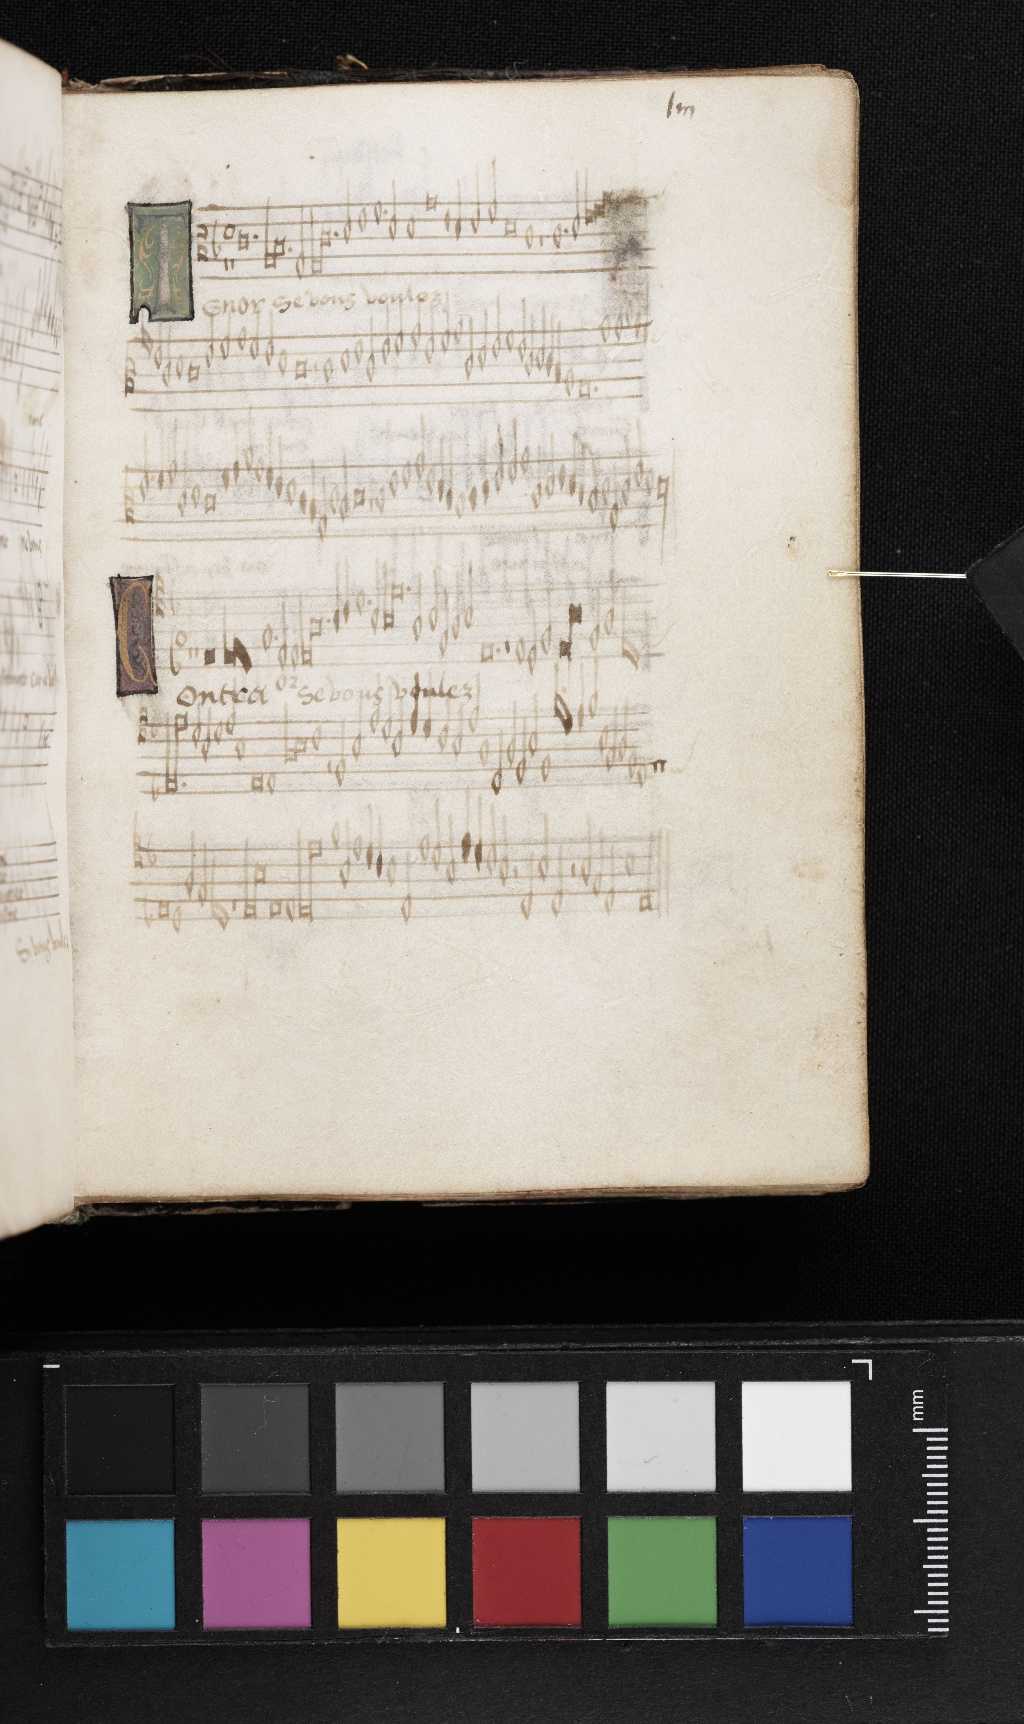barline: (658, 832, 669, 917)
breve_10: (263, 896, 286, 922), (155, 894, 173, 921)
c clef_3: (129, 814, 145, 876)
flat_11: (135, 885, 157, 934)
flat_4: (143, 814, 160, 870)
l1semibreve_10: (293, 832, 313, 924), (238, 838, 255, 919)
l2semibreve_3: (306, 835, 325, 917)
l2semibreve_6: (254, 860, 269, 922)
longa_10: (639, 839, 657, 917)
minim rest: (569, 804, 580, 915), (508, 831, 521, 914)
minim_10: (603, 833, 620, 922), (397, 847, 412, 924), (522, 857, 538, 916), (550, 857, 564, 916)
minim_4: (432, 791, 445, 869)
minim_6: (495, 807, 510, 889), (443, 805, 457, 887), (336, 808, 351, 889), (581, 811, 594, 891), (539, 816, 549, 877)
minim_7: (179, 826, 197, 904)
minim_8: (591, 807, 610, 894), (193, 837, 210, 911)
o1semibreve_10: (207, 869, 219, 934)
o2semibreve_11: (219, 869, 232, 934)
semibreve rest: (229, 843, 241, 928)
semibreve_10: (282, 893, 300, 927)
semibreve_11: (172, 905, 184, 934)
semibreve_2: (325, 815, 340, 846)
semibreve_3: (417, 825, 432, 863), (351, 824, 366, 861)
semibreve_6: (624, 828, 638, 900), (386, 827, 399, 899)
semiminim_3: (458, 787, 474, 863)
semiminim_4: (473, 797, 490, 874), (364, 808, 377, 867)
semiminim_5: (377, 818, 385, 885)
